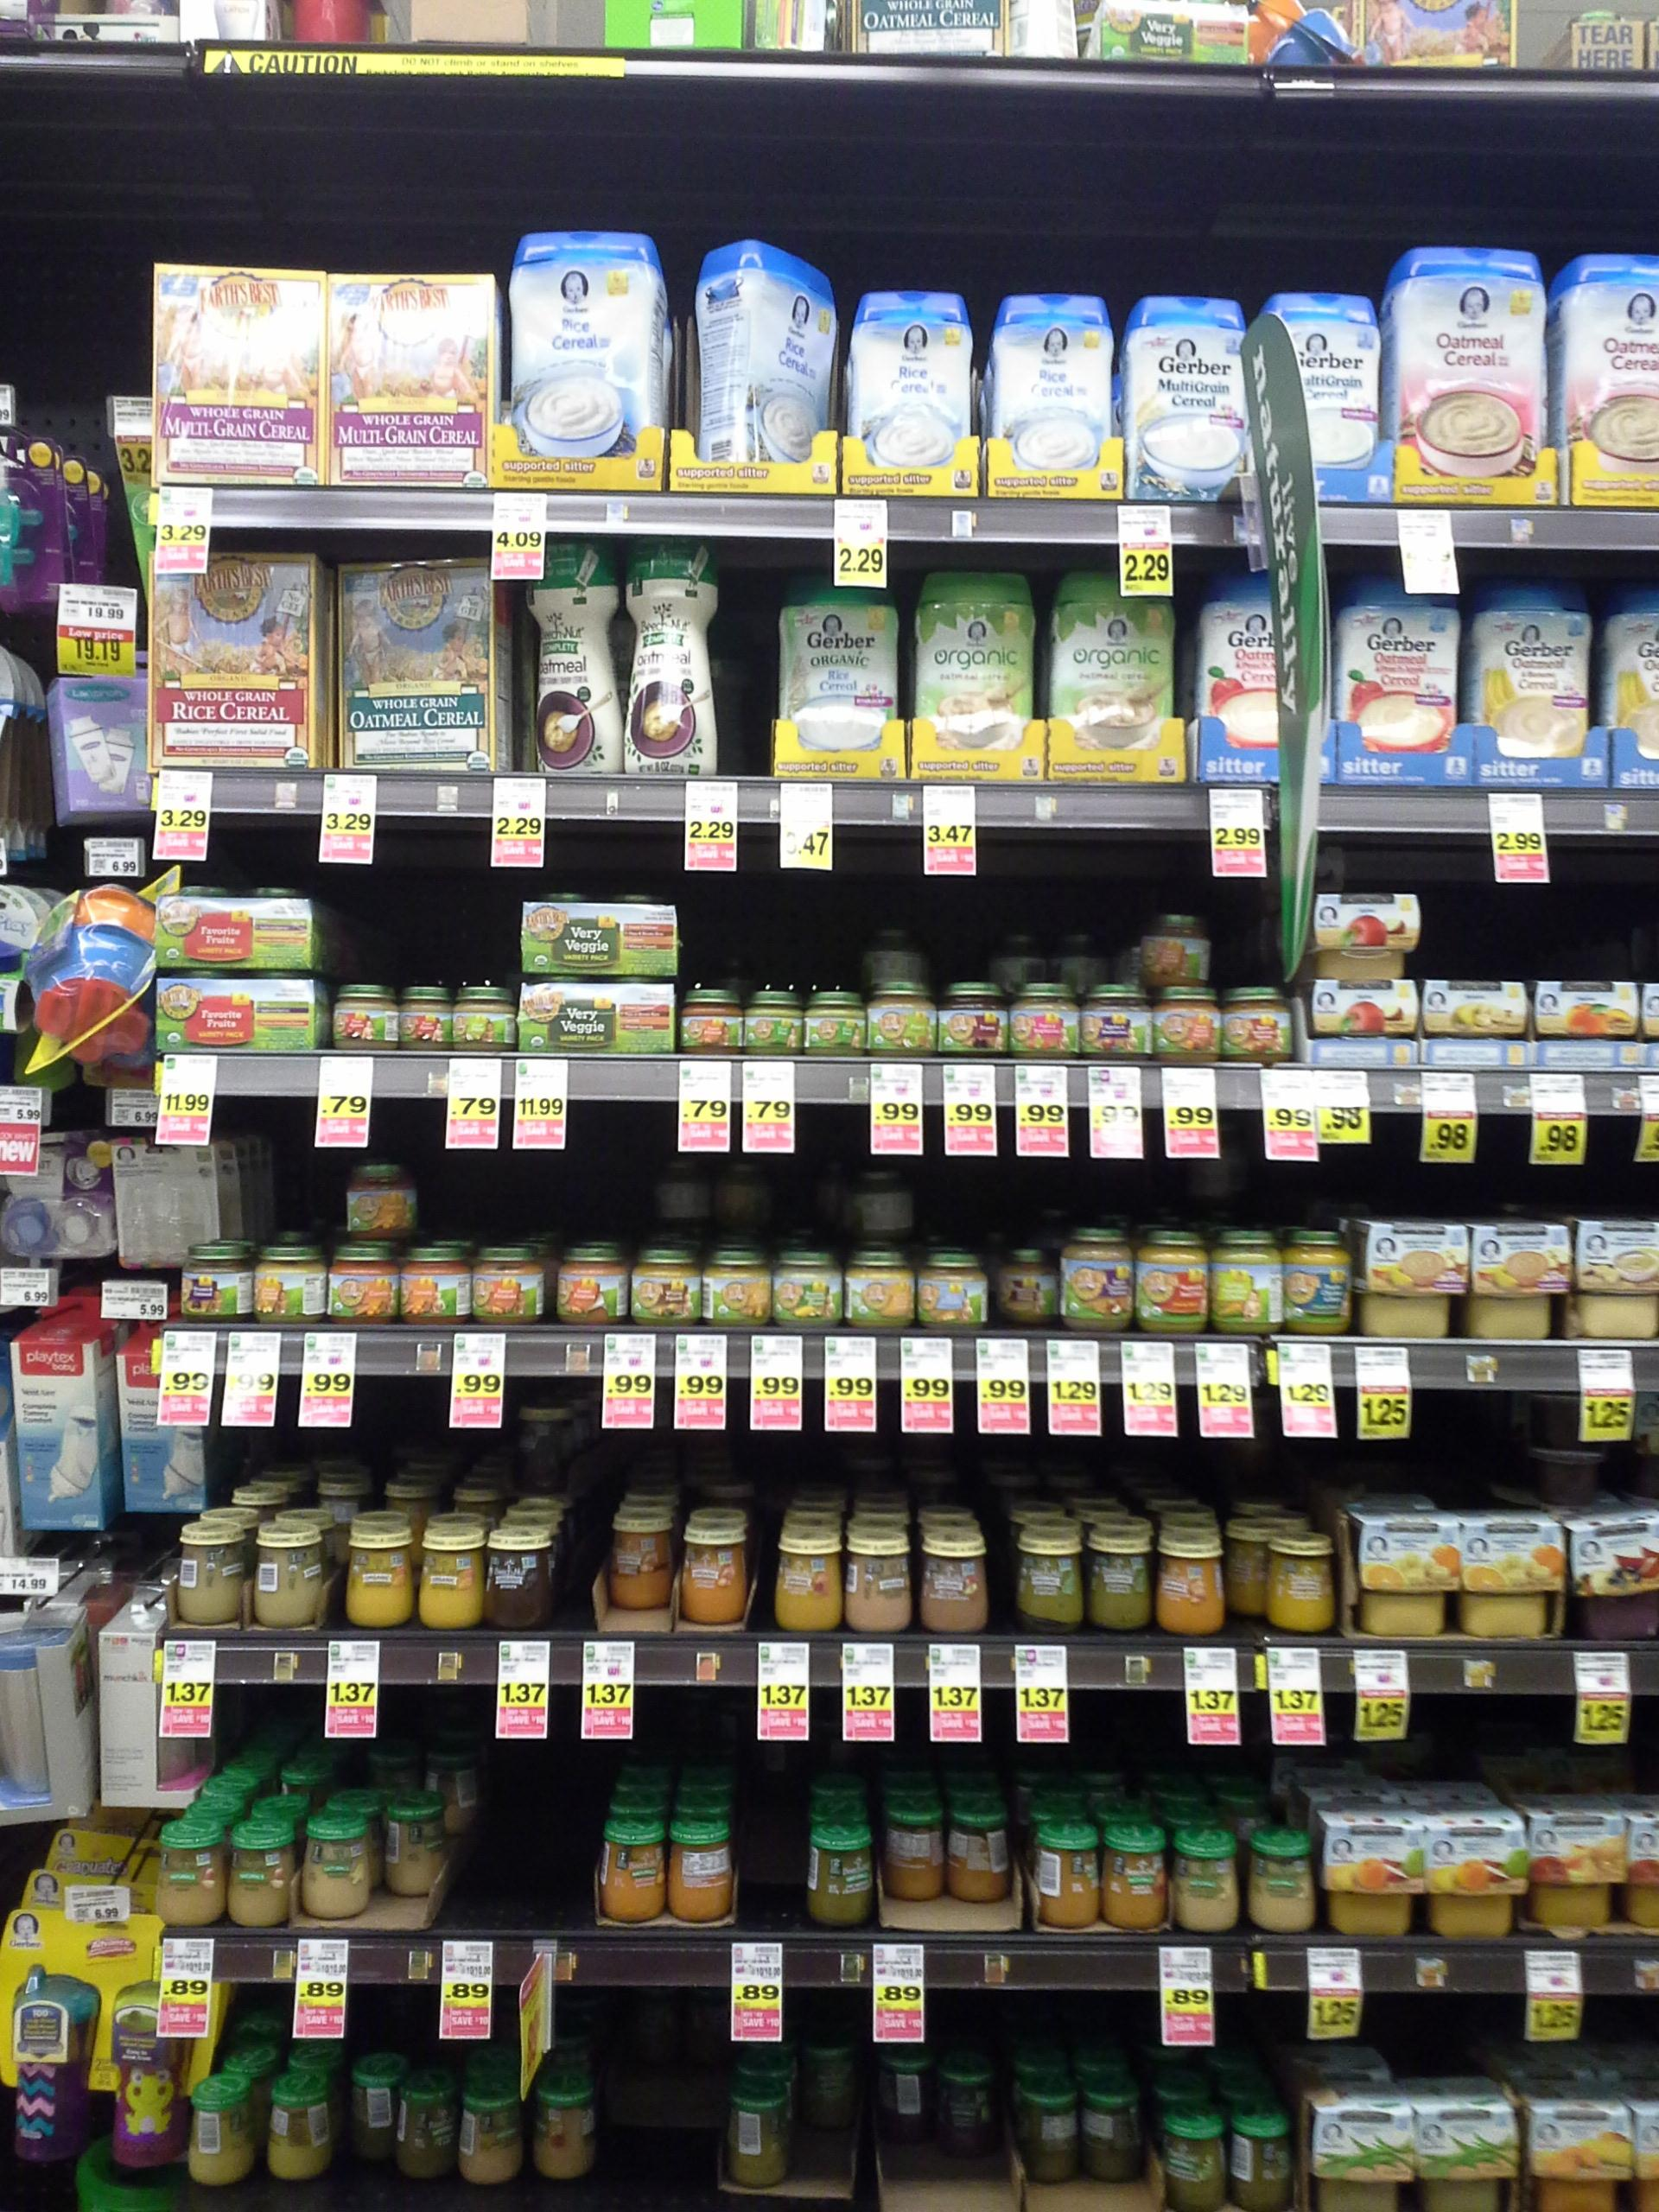empty: (610, 1993, 706, 2175), (484, 1740, 582, 1914), (748, 1745, 800, 1911)
misalignment: (685, 233, 828, 463), (483, 1475, 587, 1622)
